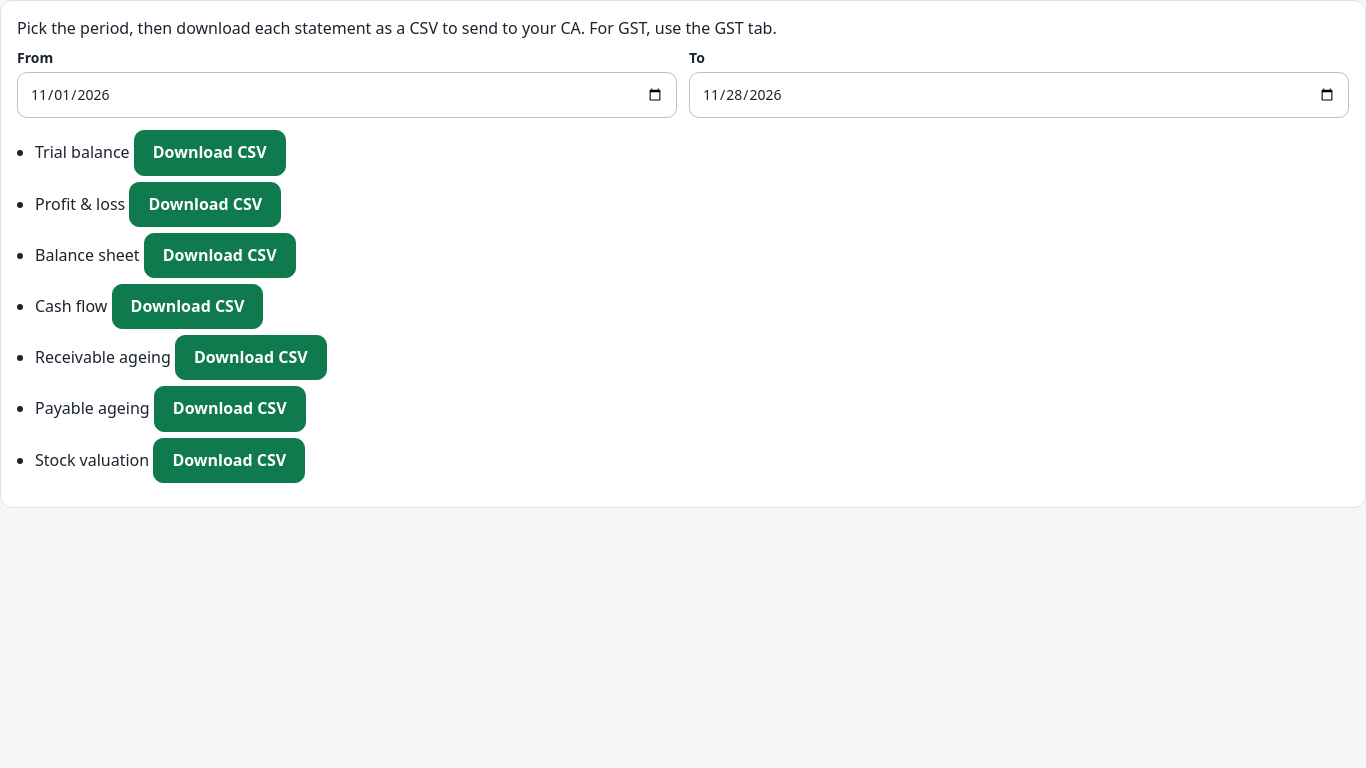
Test case: CaWorkspace (G6) › downloads the trial balance for the chosen period and reports success
Click the button "Download CSV" next to "Trial balance" at x=210, y=153, box [134, 130, 286, 176]
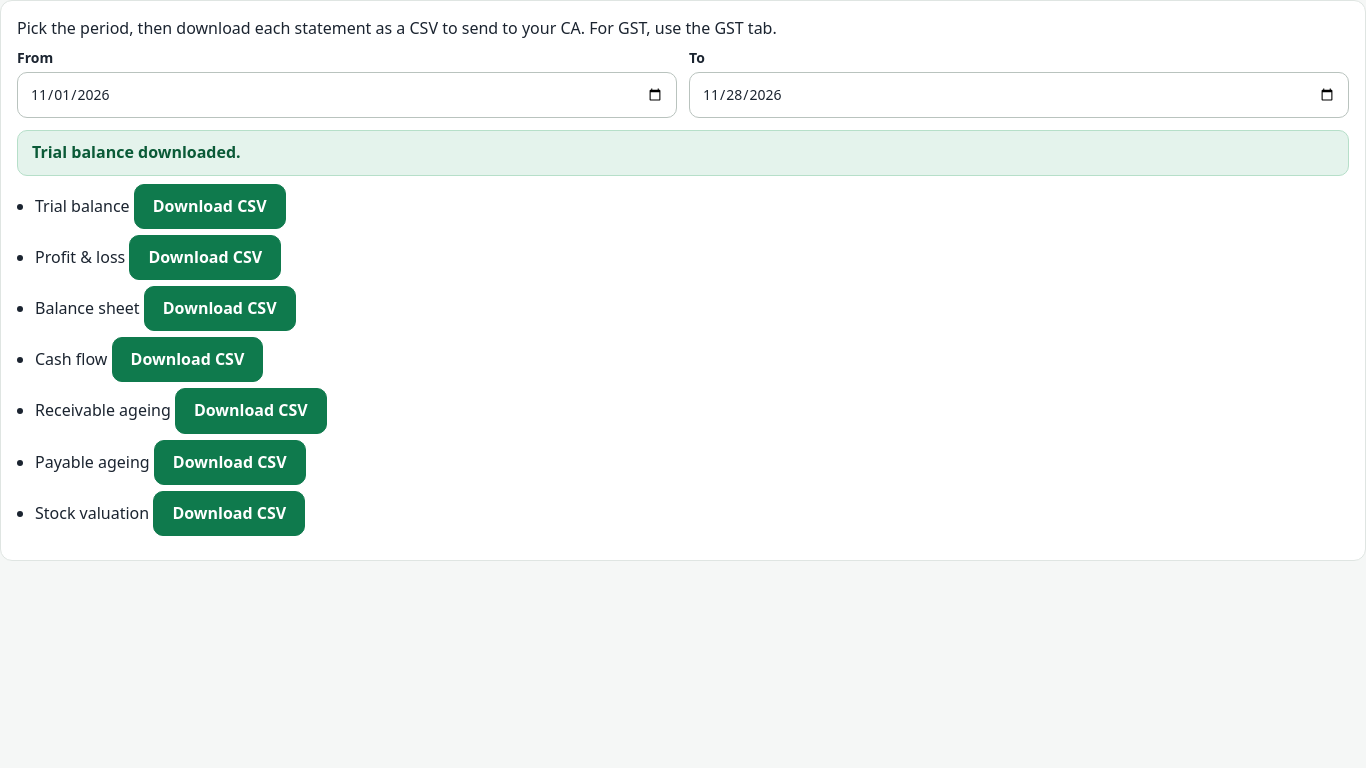
Check: the message reads "Trial balance downloaded.", box [32, 142, 241, 164]
